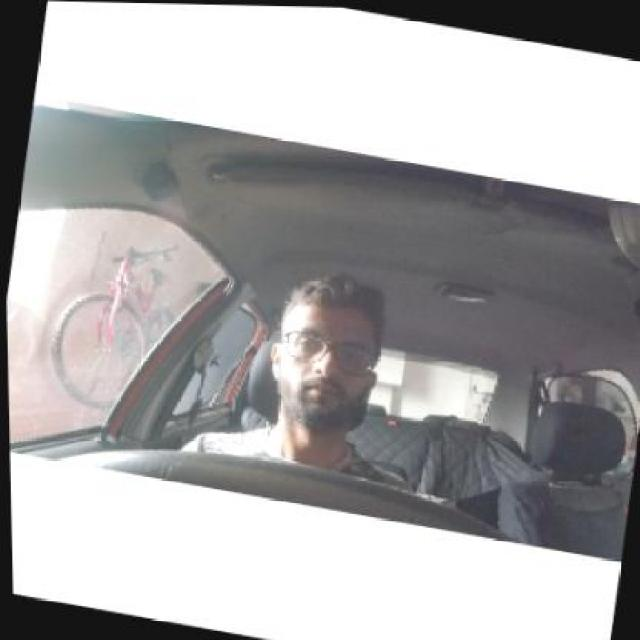person: (262, 258, 391, 440)
